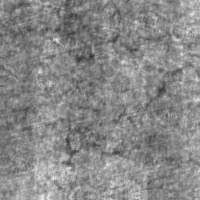crazing: (51, 102, 140, 168), (50, 0, 127, 64)
